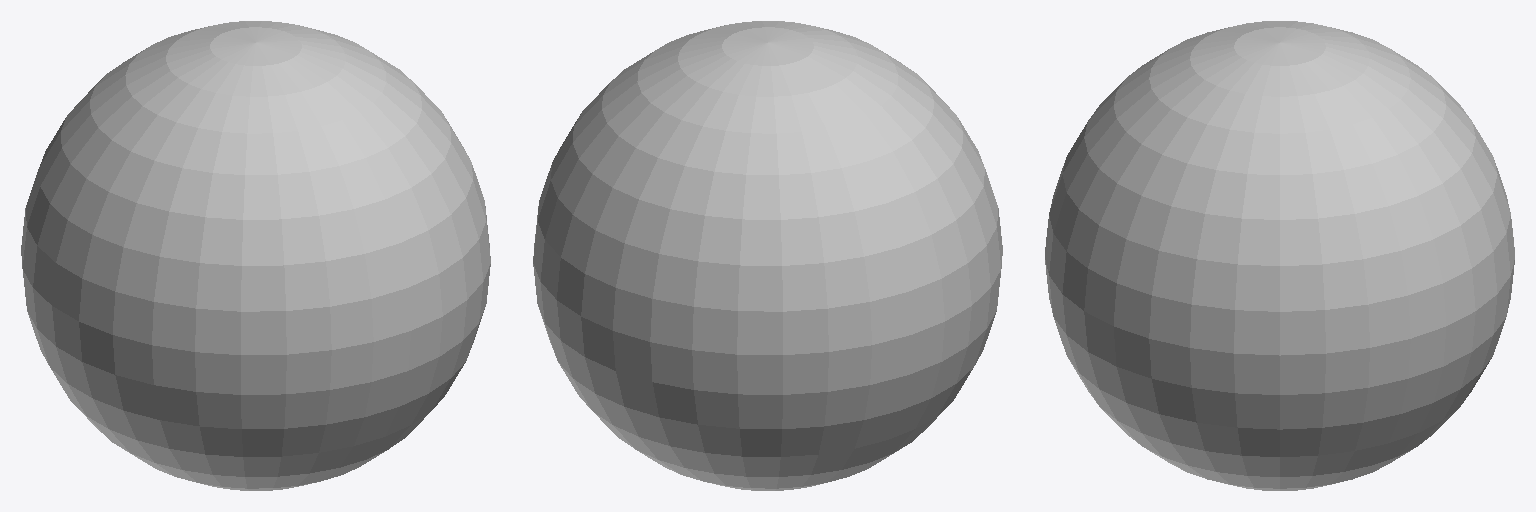
File: sphere-smooth.obj
3 views of the same model, side by side, from view 1: azimuth 30°, elevation 25°; view 2: azimuth 150°, elevation 25°; view 3: azimuth 270°, elevation 25° (orthographic).
Visible parts, largest first — view 1: Sphere_Smooth; view 2: Sphere_Smooth; view 3: Sphere_Smooth.
Part boxes in pixels (x1,y1,x2,y2): Sphere_Smooth: (21,21,490,490); Sphere_Smooth: (533,21,1002,490); Sphere_Smooth: (1045,21,1514,490).
Size of the model in its own units: 4 by 4 by 4.